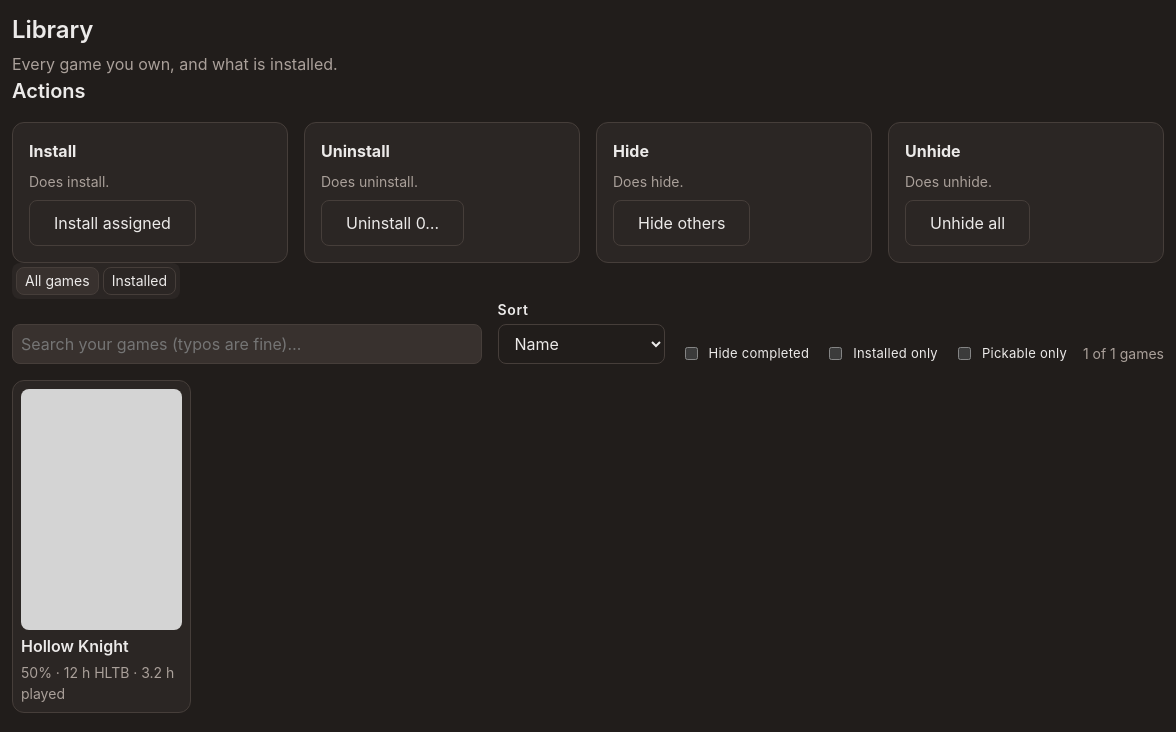
Library › shows loading, then a failure, for the installed table
The image size is (1176, 732).
Check: the text "1 of 1 games" is shown, box 1083,342 -> 1164,364
Click the button "Installed": (139, 281) 103,267 -> 176,294
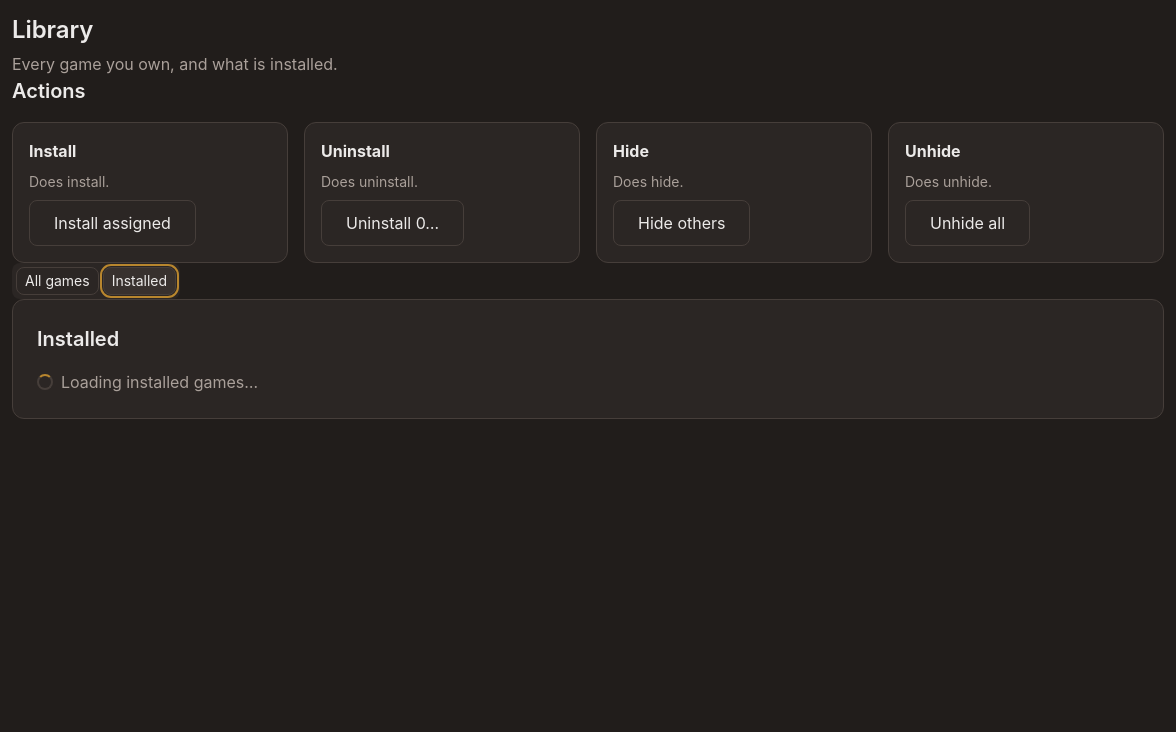
Check: the text "Loading installed games…" is shown, box 37,372 -> 258,392
